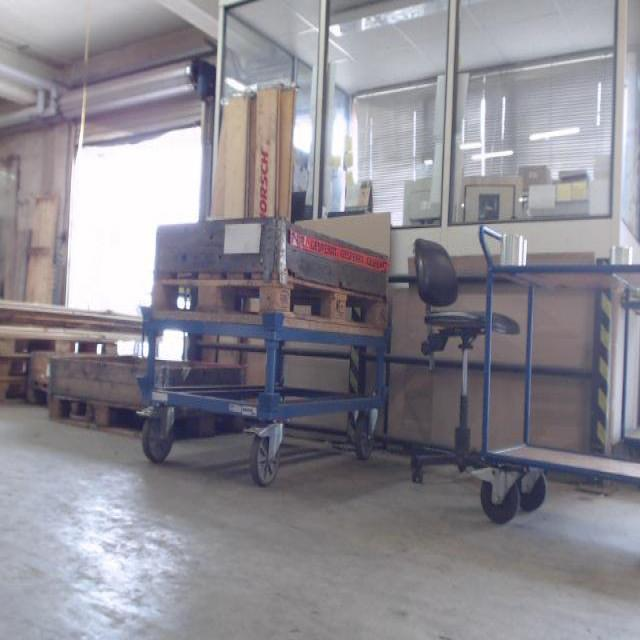pallet: (157, 269, 387, 342), (47, 396, 142, 441), (0, 330, 119, 362), (0, 377, 33, 400), (0, 357, 36, 378)
